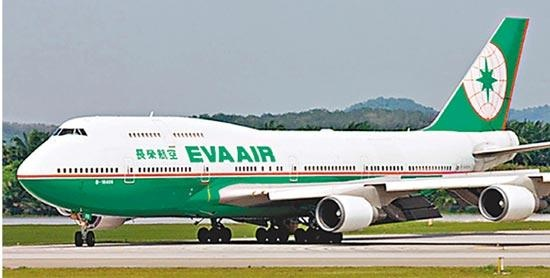airplane: (12, 16, 550, 249)
